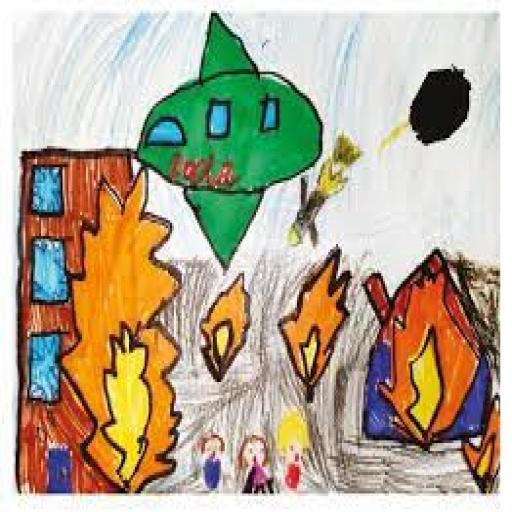person: (182, 420, 229, 497), (278, 400, 310, 504), (237, 425, 273, 506)
